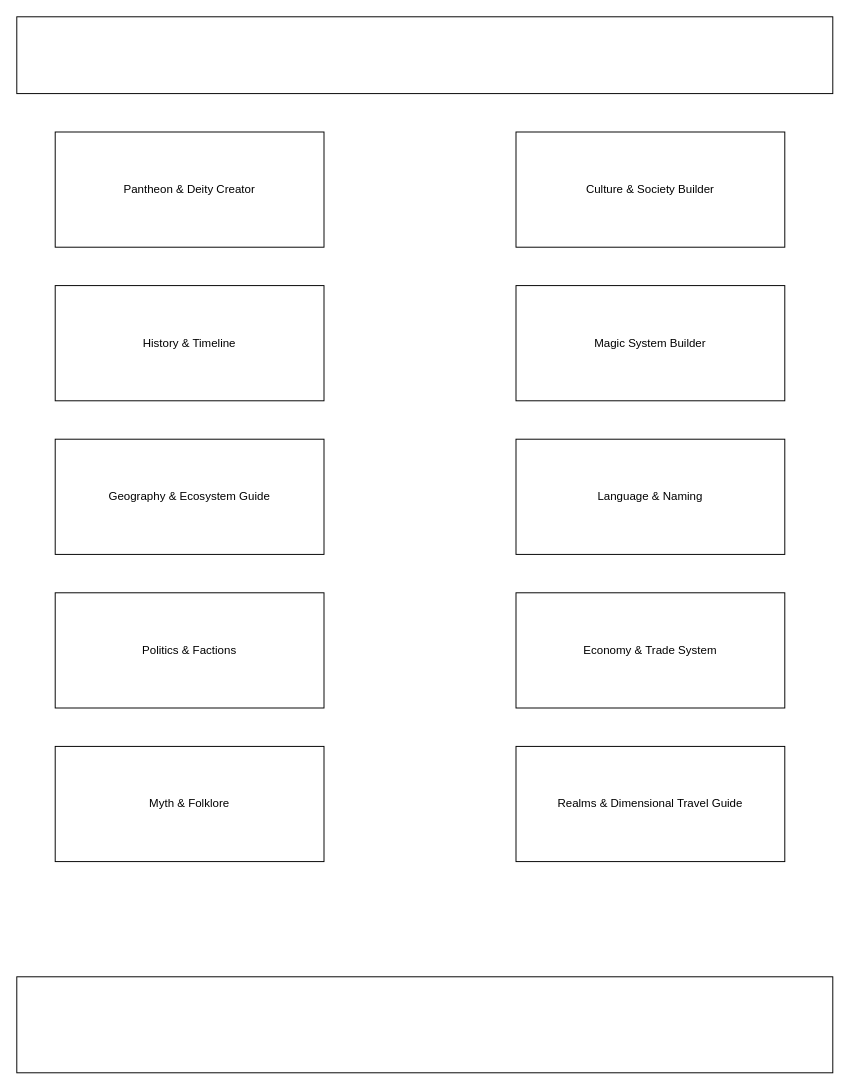
This 850x1090 diagram has some shape labels left out. The shapes that lost their labels are listed below. From the top down, each one's centre as x and y in pixels, then its label:
At (424,55): "Lore and Worldbuilding".
At (424,1024): "Footer".
